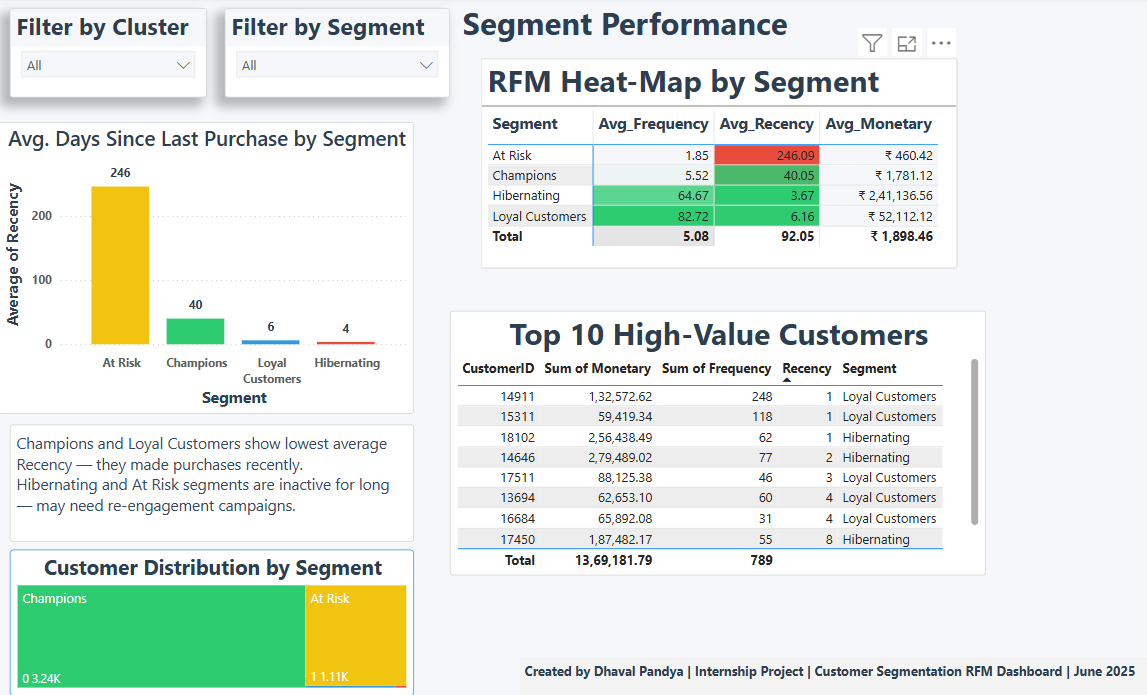

The dashboard page shown, as its layout file describes it:
{"tool":"powerbi","page":{"name":"Segment Performance","canvas":[1202,720],"ordinal":1},"visuals":[{"type":"textbox","box":[251.1,0,794.5,57.6],"z":0},{"type":"clusteredColumnChart","title":"Avg. Days Since Last Purchase by Segment","fields":{"Category":["Sheet1.Segment"],"Y":["Avg(Sheet1.Recency)"]},"box":[2.7,129,428.1,300.5],"z":1000},{"type":"textbox","box":[13.7,440.5,417.2,120.8],"z":2000},{"type":"slicer","title":"Filter by Cluster","fields":{"Values":["Sheet1.Cluster"]},"box":[13.7,11,203.1,91.9],"z":3000},{"type":"slicer","title":"Filter by Segment","fields":{"Values":["Sheet1.Segment"]},"box":[236,11,231.9,91.9],"z":4000},{"type":"treemap","title":"Customer Distribution by Segment","fields":{"Group":["Sheet1.Segment"],"Details":["Sheet1.Cluster"],"Values":["Count(Sheet1.CustomerID)"]},"box":[13.7,569.5,417.2,150.9],"z":5000},{"type":"pivotTable","title":"RFM Heat-Map by Segment","fields":{"Rows":["Customer_Segmentation_Final.Segment"],"Values":["Customer_Segmentation_Final.Avg_Frequency","Customer_Segmentation_Final.Avg_Recency","Customer_Segmentation_Final.Avg_Monetary"]},"box":[499.5,63.1,491.3,216.8],"z":6000},{"type":"tableEx","title":"Top 10 High-Value Customers","fields":{"Values":["Customer_Segmentation_Final.CustomerID","Customer_Segmentation_Final.Monetary","Customer_Segmentation_Final.Frequency","Customer_Segmentation_Final.Recency","Customer_Segmentation_Final.Segment"]},"box":[467.9,323.8,553,273.1],"z":7000},{"type":"textbox","box":[539.9,680.4,662.3,39.9],"z":8000}]}

Visuals, with their boxes in screenshot pixels (x1, y1, x2, y2), scaled from the page's 1202x720 canvas onto the 1147x695 screenshot:
textbox: 240/0/998/56
"Avg. Days Since Last Purchase by Segment" clusteredColumnChart: 3/125/411/415
textbox: 13/425/411/542
"Filter by Cluster" slicer: 13/11/207/99
"Filter by Segment" slicer: 225/11/446/99
"Customer Distribution by Segment" treemap: 13/550/411/694
"RFM Heat-Map by Segment" pivotTable: 477/61/945/270
"Top 10 High-Value Customers" tableEx: 446/313/974/576
textbox: 515/657/1146/694
